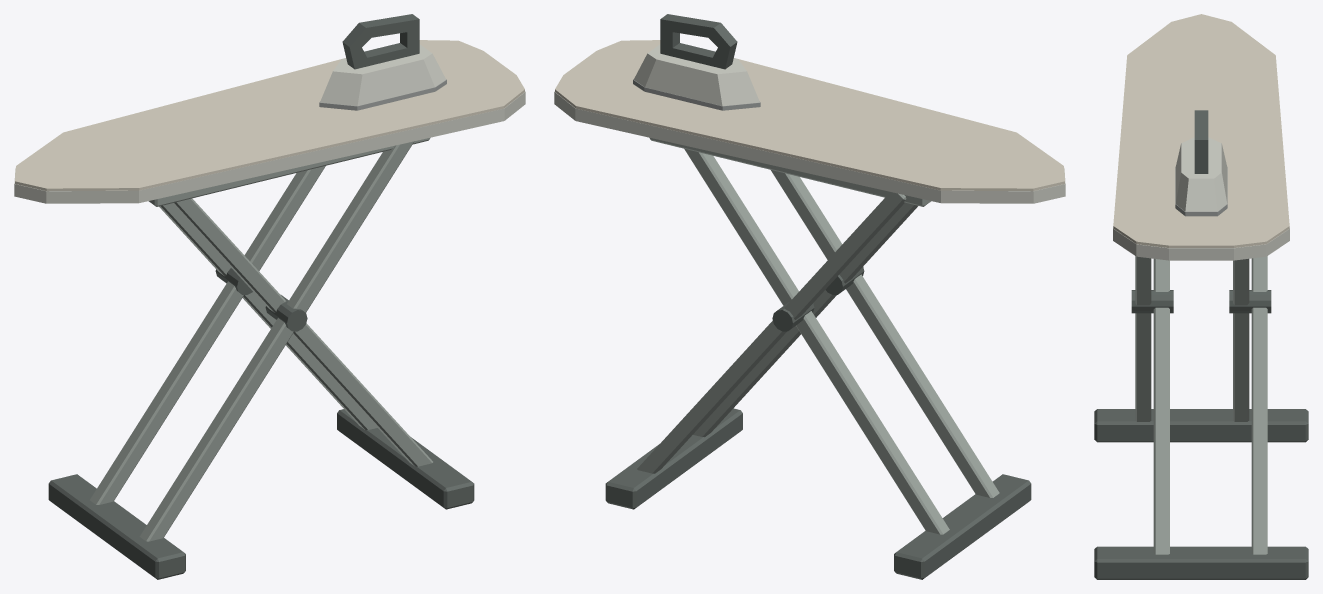
3 views of the same model, side by side, from view 1: azimuth 30°, elevation 25°; view 2: azimuth 150°, elevation 25°; view 3: azimuth 270°, elevation 25° (orthographic). The views are drawn at different scales.
Parts seen in each view (by area): view 1: Thin fixed cloth cover, Fixed crossed leg A -0.10, Fixed crossed leg A 0.10, Continuous tapered ironing deck, Fixed crossed leg B -0.10, Crosswise ground bar -0.35, Tapered iron shell, Crosswise ground bar 0.35, Fixed crossed leg B 0.10, Iron handle with true through opening, Underboard bearing frame, Fixed crossed-leg pin -0.10 (+1 smaller); view 2: Thin fixed cloth cover, Fixed crossed leg A 0.10, Fixed crossed leg A -0.10, Continuous tapered ironing deck, Fixed crossed leg B 0.10, Crosswise ground bar -0.35, Tapered iron shell, Crosswise ground bar 0.35, Fixed crossed leg B -0.10, Iron handle with true through opening, Underboard bearing frame, Iron sole plate; view 3: Thin fixed cloth cover, Crosswise ground bar 0.35, Crosswise ground bar -0.35, Fixed crossed leg B 0.10, Fixed crossed leg B -0.10, Tapered iron shell, Fixed crossed leg A -0.10, Fixed crossed leg A 0.10, Continuous tapered ironing deck, Iron handle with true through opening, Fixed crossed-leg pin -0.10, Fixed crossed-leg pin 0.10 (+1 smaller).
Boxes of the visible parts, x1,y1,x2,y2 form: Thin fixed cloth cover: (15, 40, 524, 191); Fixed crossed leg A -0.10: (139, 141, 414, 541); Fixed crossed leg A 0.10: (90, 166, 325, 504); Continuous tapered ironing deck: (14, 91, 525, 203); Fixed crossed leg B -0.10: (172, 198, 432, 466); Crosswise ground bar -0.35: (48, 474, 185, 579); Tapered iron shell: (320, 44, 446, 106); Crosswise ground bar 0.35: (337, 409, 474, 509); Fixed crossed leg B 0.10: (159, 203, 377, 430); Iron handle with true through opening: (342, 14, 419, 69); Underboard bearing frame: (148, 137, 430, 206); Fixed crossed-leg pin -0.10: (265, 295, 307, 331); Thin fixed cloth cover: (555, 40, 1064, 191); Fixed crossed leg A 0.10: (684, 148, 949, 534); Fixed crossed leg A -0.10: (771, 170, 999, 497); Continuous tapered ironing deck: (554, 91, 1065, 203); Fixed crossed leg B 0.10: (637, 192, 906, 473); Crosswise ground bar -0.35: (894, 474, 1031, 579); Tapered iron shell: (633, 44, 759, 106); Crosswise ground bar 0.35: (605, 408, 742, 509); Fixed crossed leg B -0.10: (693, 202, 917, 437); Iron handle with true through opening: (660, 14, 737, 69); Underboard bearing frame: (649, 137, 931, 206); Iron sole plate: (633, 79, 760, 110); Thin fixed cloth cover: (1113, 14, 1289, 247); Crosswise ground bar 0.35: (1094, 546, 1308, 579); Crosswise ground bar -0.35: (1094, 409, 1308, 442); Fixed crossed leg B 0.10: (1251, 256, 1267, 554); Fixed crossed leg B -0.10: (1153, 258, 1169, 554); Tapered iron shell: (1175, 137, 1227, 211); Fixed crossed leg A -0.10: (1135, 256, 1151, 421); Fixed crossed leg A 0.10: (1233, 258, 1249, 421); Continuous tapered ironing deck: (1113, 228, 1289, 260); Iron handle with true through opening: (1194, 110, 1208, 173); Fixed crossed-leg pin -0.10: (1131, 290, 1173, 313); Fixed crossed-leg pin 0.10: (1229, 290, 1271, 313).
Bounding box in the file's own units: 1.18 × 1.05 × 0.46.
